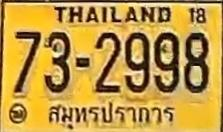2: (94, 32, 120, 92)
3: (43, 31, 70, 92)
7: (13, 30, 41, 93)
8: (183, 32, 208, 92)
9: (153, 31, 179, 92), (124, 31, 149, 92)
SPK: (43, 99, 176, 132)
